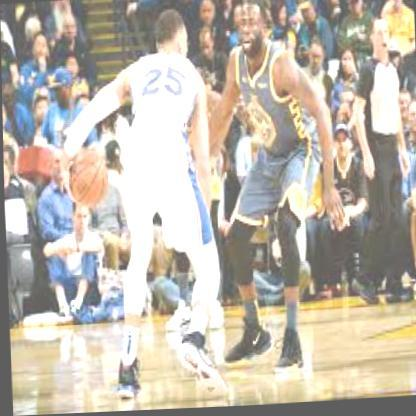basketball: (67, 150, 108, 209)
